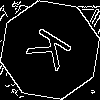K: (25, 25, 82, 78)
